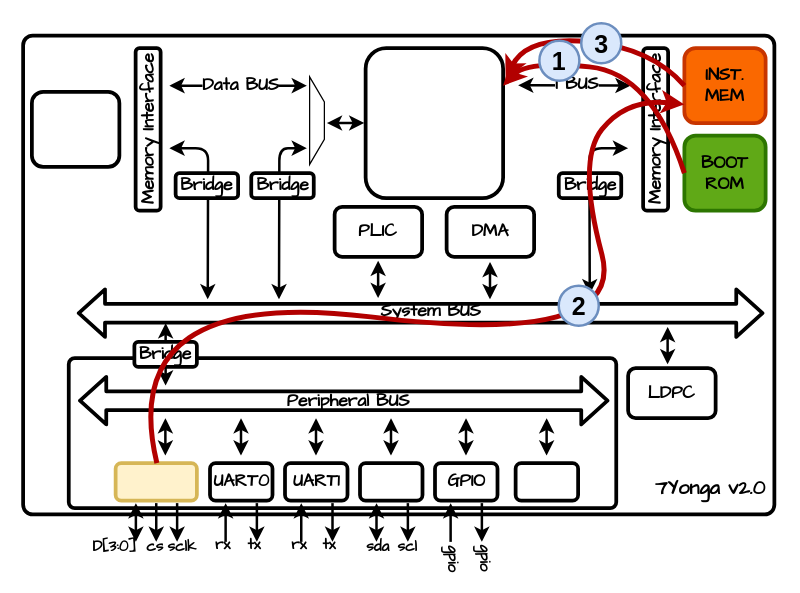
Some shapes in this 800 by 593 pixel diagram are drawn without their labels. The box of each missing label's shape, as (x1, y1, x2, y2) in pixels:
CORE: (363, 46, 504, 199)
DATA MEM: (29, 89, 121, 168)
I 2 C: (358, 461, 424, 502)
QSPI: (113, 461, 198, 502)
TIMER: (513, 461, 579, 502)
